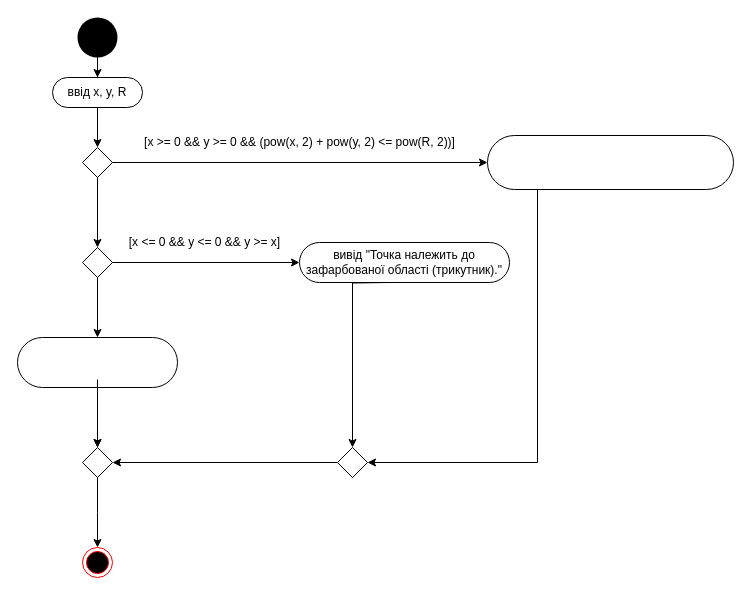
The diagram is 751 pixels wide and 595 high, and some of its shapes have lost their labels. The box of each missing label's shape, as (x1, y1, x2, y2) in pixels:
вивід "Точка належить до зафарбованої області (чверть кола).": (486, 134, 734, 190)
вивід "Точка не належить до зафарбованої області.": (16, 336, 178, 388)
